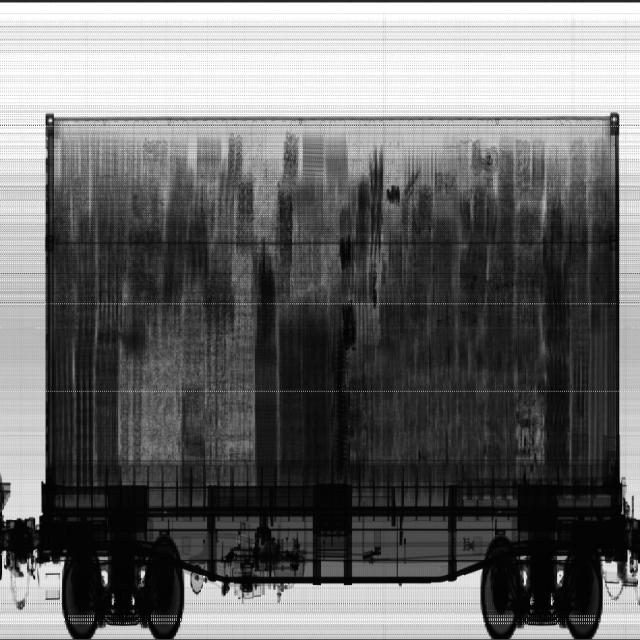tableware: (226, 134, 255, 251)
